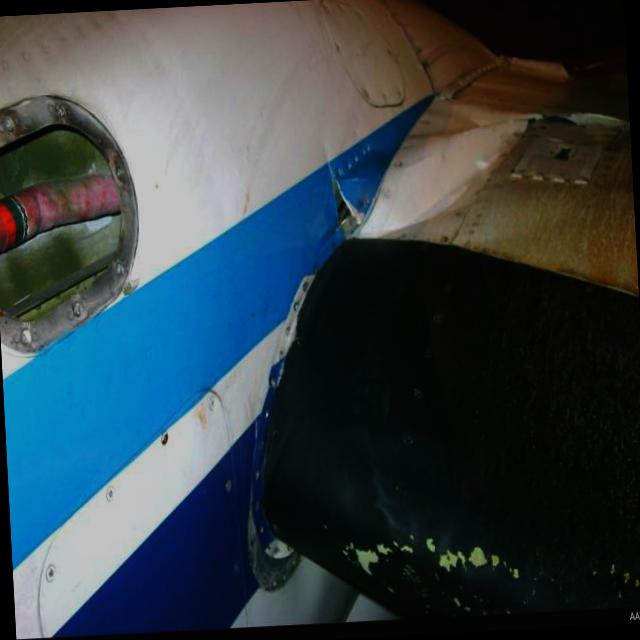crack: (328, 173, 362, 228)
